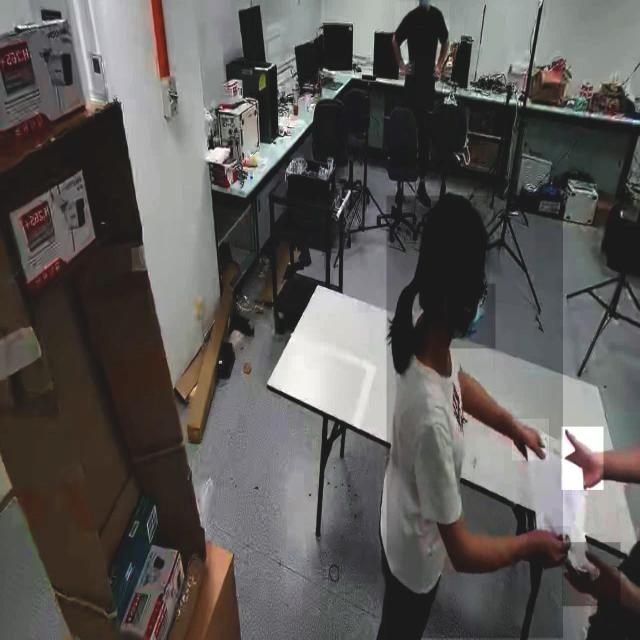face_mask: (447, 284, 495, 348)
hand_noglove: (562, 542, 620, 607), (561, 426, 603, 491), (526, 526, 572, 569), (511, 419, 549, 461), (399, 60, 415, 76), (432, 61, 444, 82)
head_nohelmet: (419, 191, 488, 251)
person: (386, 196, 563, 639), (394, 2, 450, 127)
